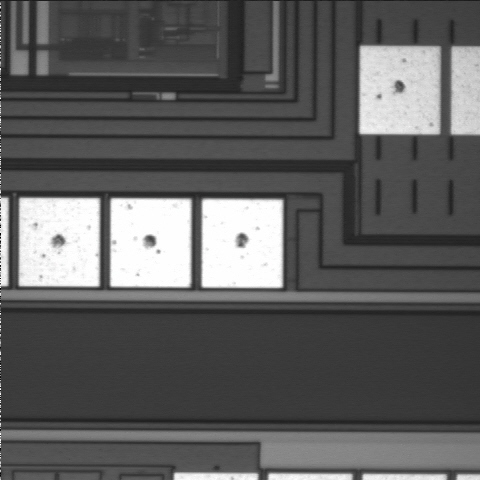pad: (19, 198, 100, 287), (110, 198, 191, 287), (202, 199, 283, 288), (360, 46, 440, 134)
